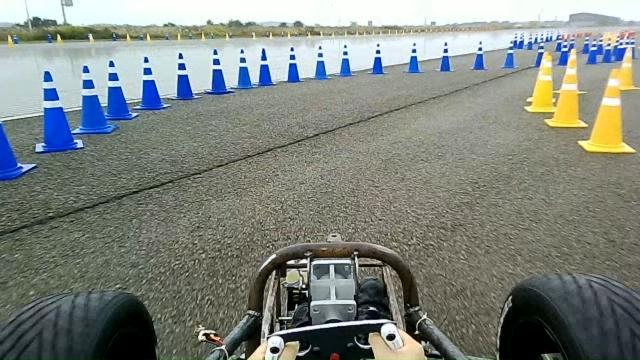blue cone: (34, 70, 84, 153), (70, 65, 118, 134), (131, 56, 171, 110), (103, 60, 139, 120), (166, 52, 202, 100), (203, 48, 234, 95), (230, 48, 256, 89), (280, 46, 304, 83), (255, 47, 277, 86), (310, 45, 332, 79), (334, 44, 356, 77), (367, 42, 388, 75), (403, 42, 425, 73), (469, 41, 489, 70), (436, 42, 455, 72), (500, 44, 518, 69)
yellow cone: (577, 68, 636, 154), (544, 48, 588, 128), (524, 52, 556, 113)
